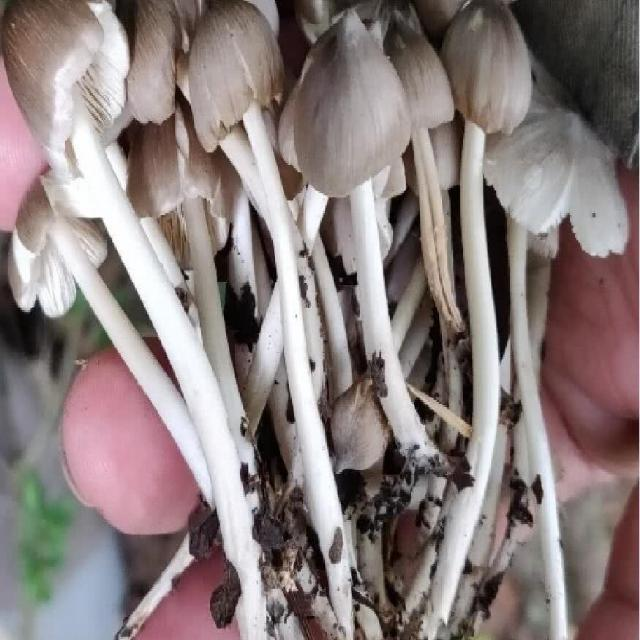Collybia albuminosa: (3, 4, 265, 632), (192, 3, 361, 628), (9, 170, 220, 500), (289, 13, 413, 478), (442, 9, 530, 640), (365, 34, 462, 342), (494, 107, 631, 275)
